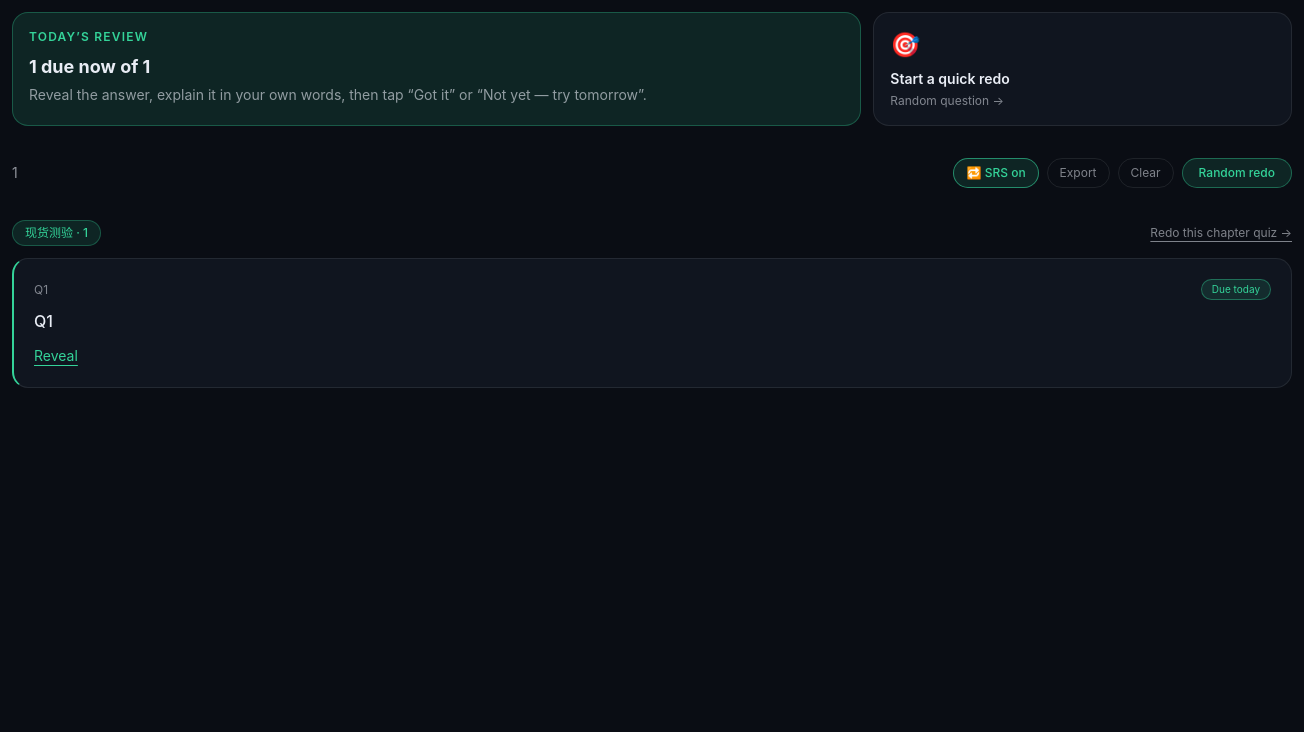
Scenario: ReviewClient「怎么做」那句点名的是真按钮 › 英文界面同一句也只做两件事：说出两个名字，且它们都在页面上
The width and height of the screenshot is (1304, 732).
Click the button "Reveal". click: [56, 356]
box: [34,346,78,366]
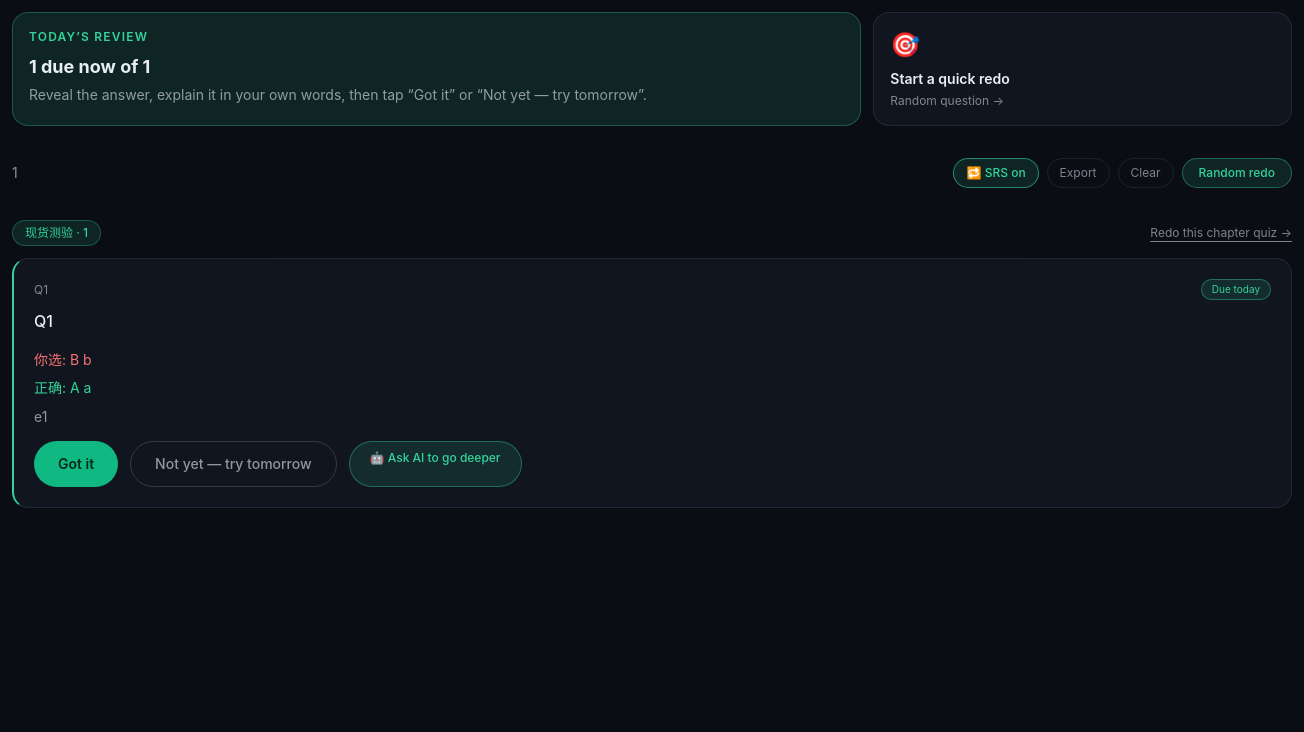
Expected: the button "Got it" is shown, [34,441,118,487]
Expected: the button "Not yet — try tomorrow" is shown, [130,441,337,487]
